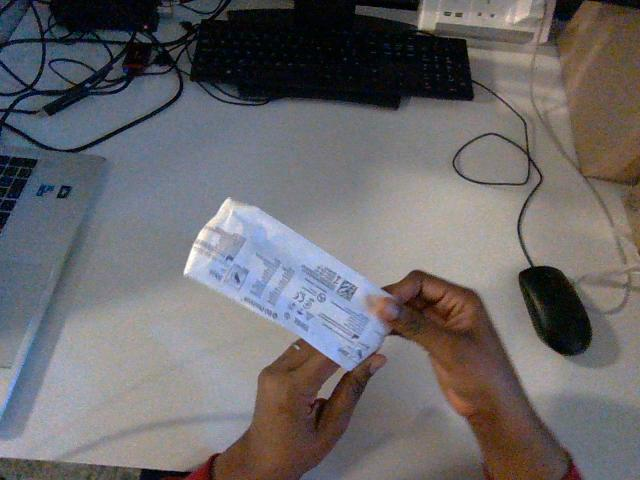syringe: (184, 198, 388, 369)
